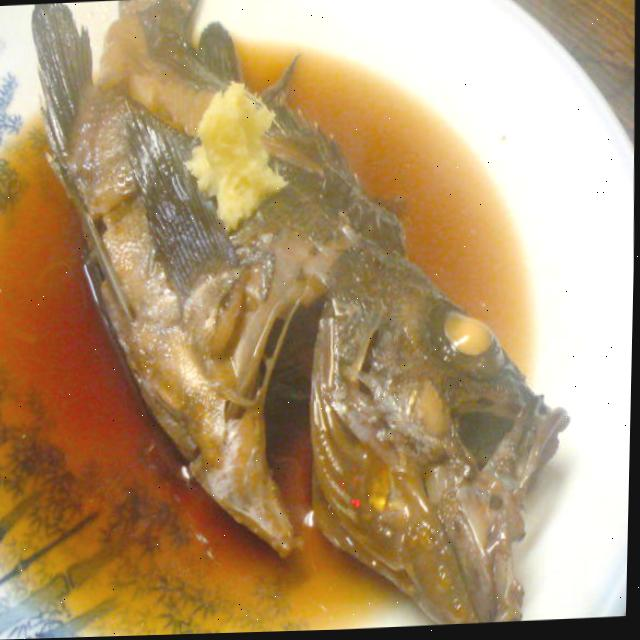熟制海鲜: (0, 0, 592, 640)
